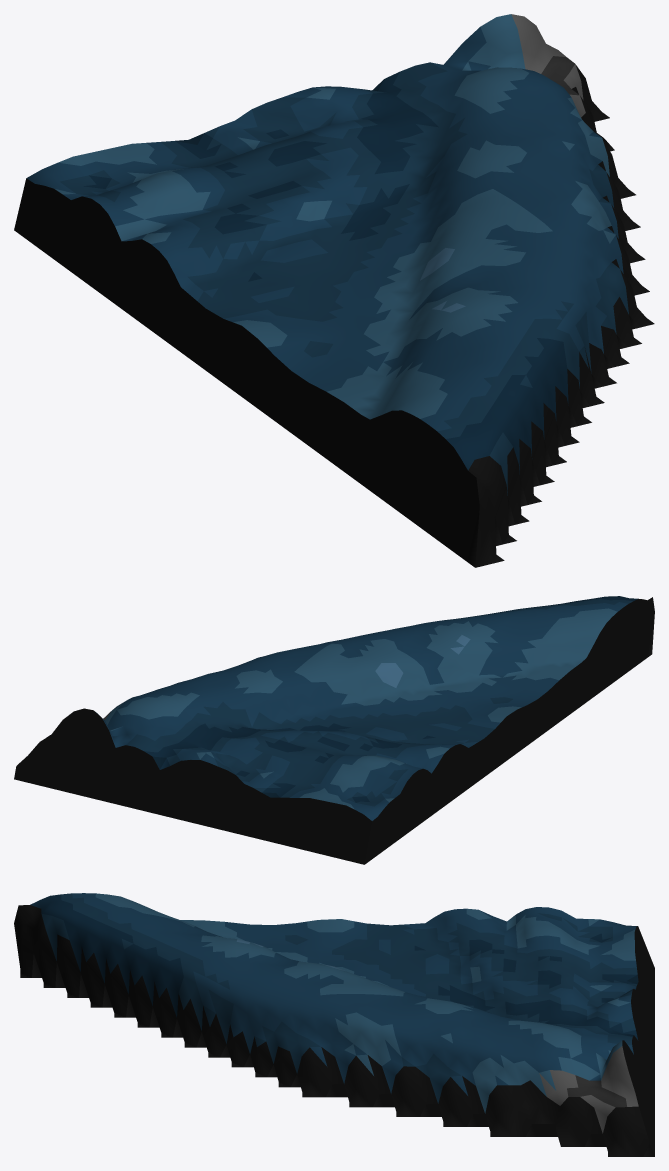
Rendered from gryphon_53.glb.
The picture shows the model from 3 angles, top to bottom: view 1: azimuth 30°, elevation 25°; view 2: azimuth 150°, elevation 25°; view 3: azimuth 270°, elevation 25°; orthographic projection. The views are drawn at different scales.
Visible parts, largest first — view 1: gryphon_53; view 2: gryphon_53; view 3: gryphon_53.
Part boxes in pixels (bbox=[...]): gryphon_53: bbox=[14, 14, 654, 567]; gryphon_53: bbox=[14, 596, 654, 864]; gryphon_53: bbox=[14, 893, 654, 1156].
Bounding box in the file's own units: 19 × 3.83 × 27.26.
